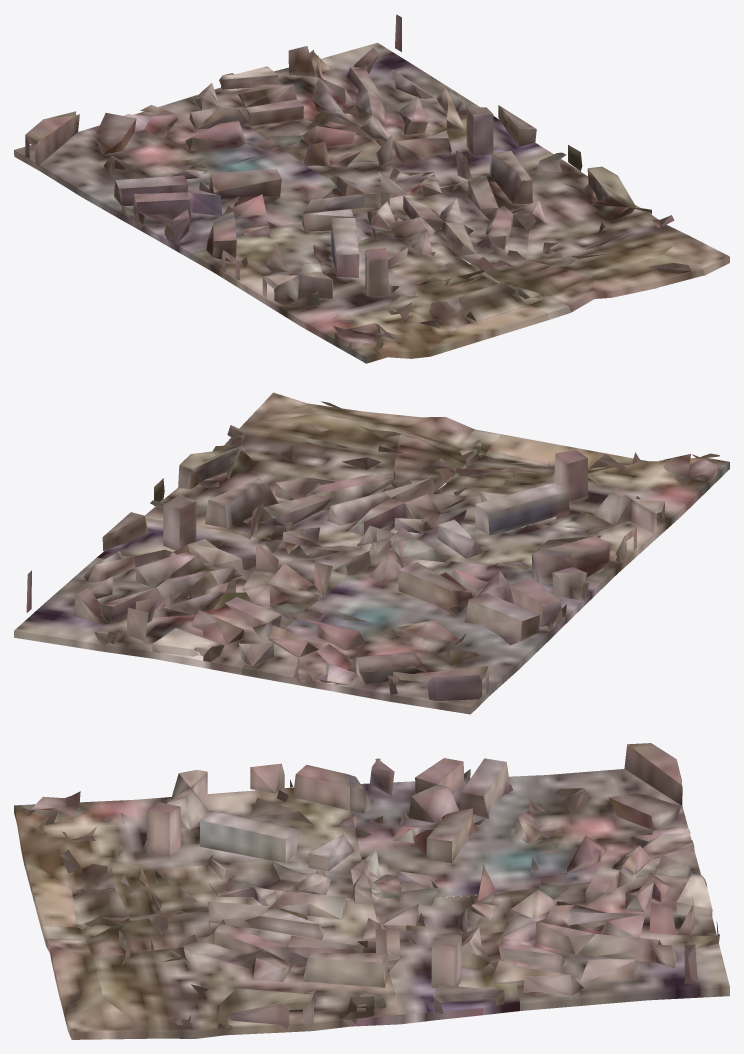
The picture shows the model from 3 angles, top to bottom: view 1: azimuth 30°, elevation 25°; view 2: azimuth 150°, elevation 25°; view 3: azimuth 270°, elevation 25°; orthographic projection. The views are drawn at different scales.
Parts seen in each view (by area): view 1: Mesh_0; view 2: Mesh_0; view 3: Mesh_0.
Boxes of the visible parts, x1,y1,x2,y2 form: Mesh_0: (14, 14, 729, 363); Mesh_0: (14, 392, 729, 714); Mesh_0: (14, 743, 729, 1039).
Size of the model in its own units: 533 by 71.7 by 659.
Materials: 1 (1 with a texture image).
